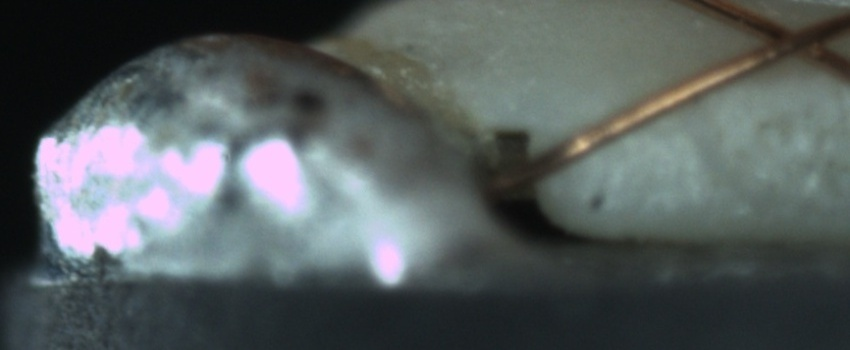CL: (744, 6, 844, 69)
